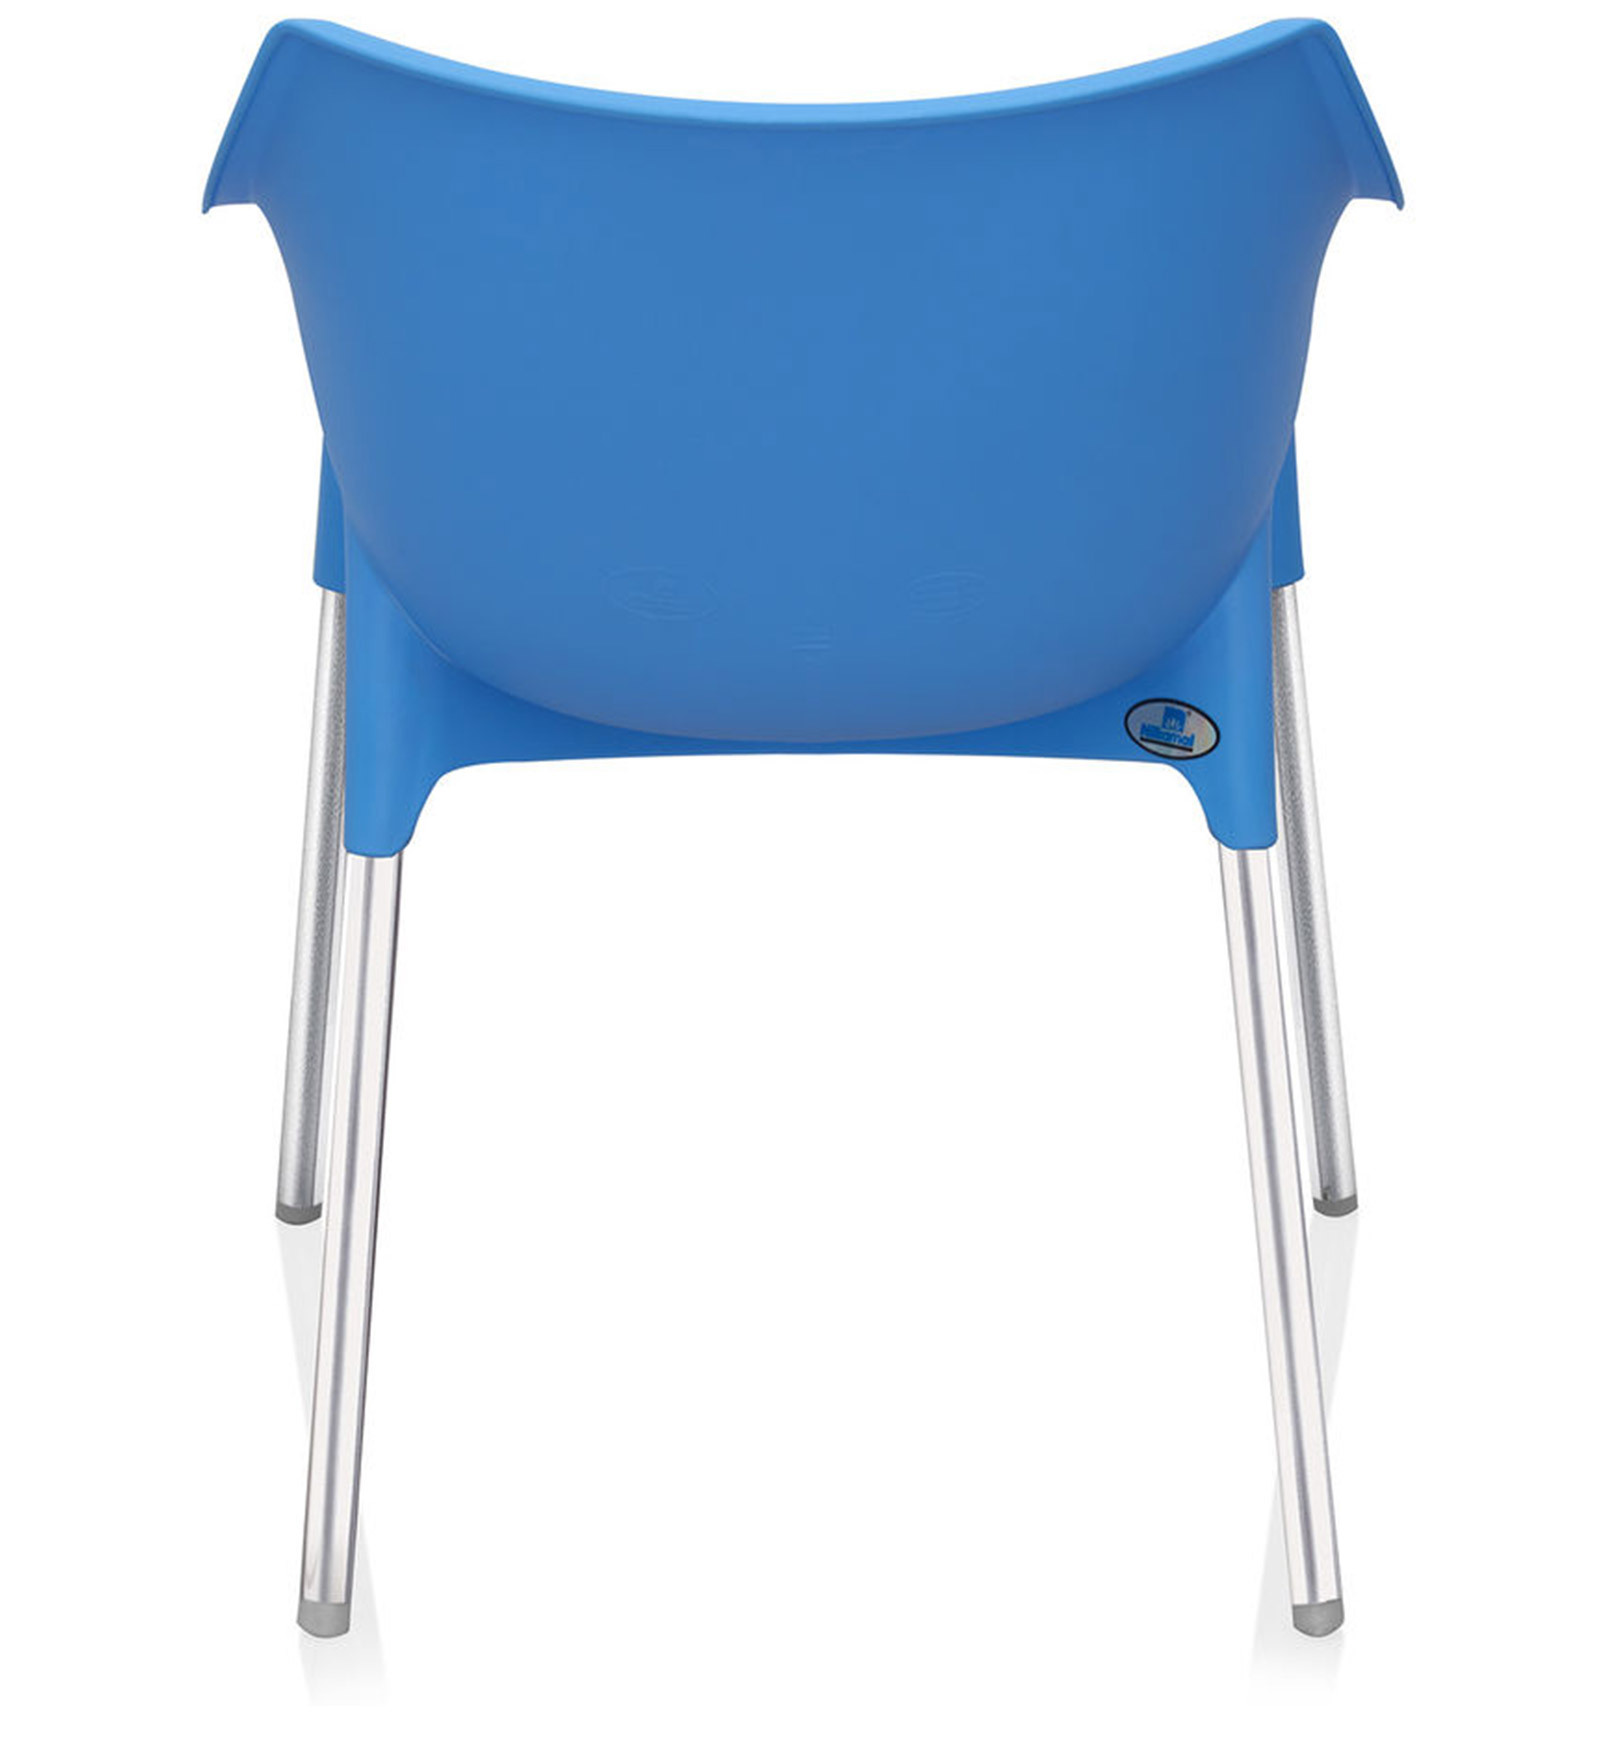Novella Series - 10 Set of 2 Chairs in Blue Colour by Nilkamal: (193, 8, 1439, 1634)
